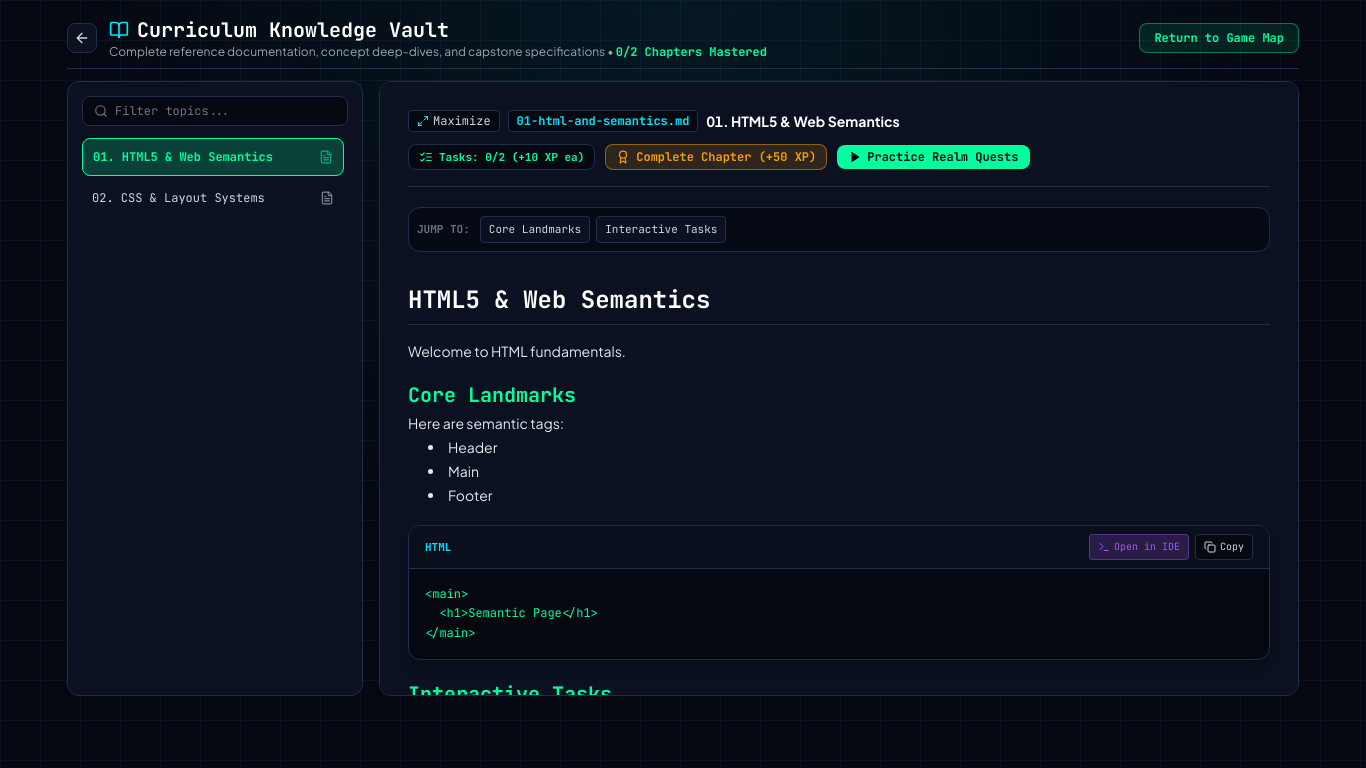
Test: CurriculumViewer Component › handles completing a chapter
Click the button "Complete Chapter (+50 XP)" at (716, 157), box left=605, top=144, right=827, bottom=170
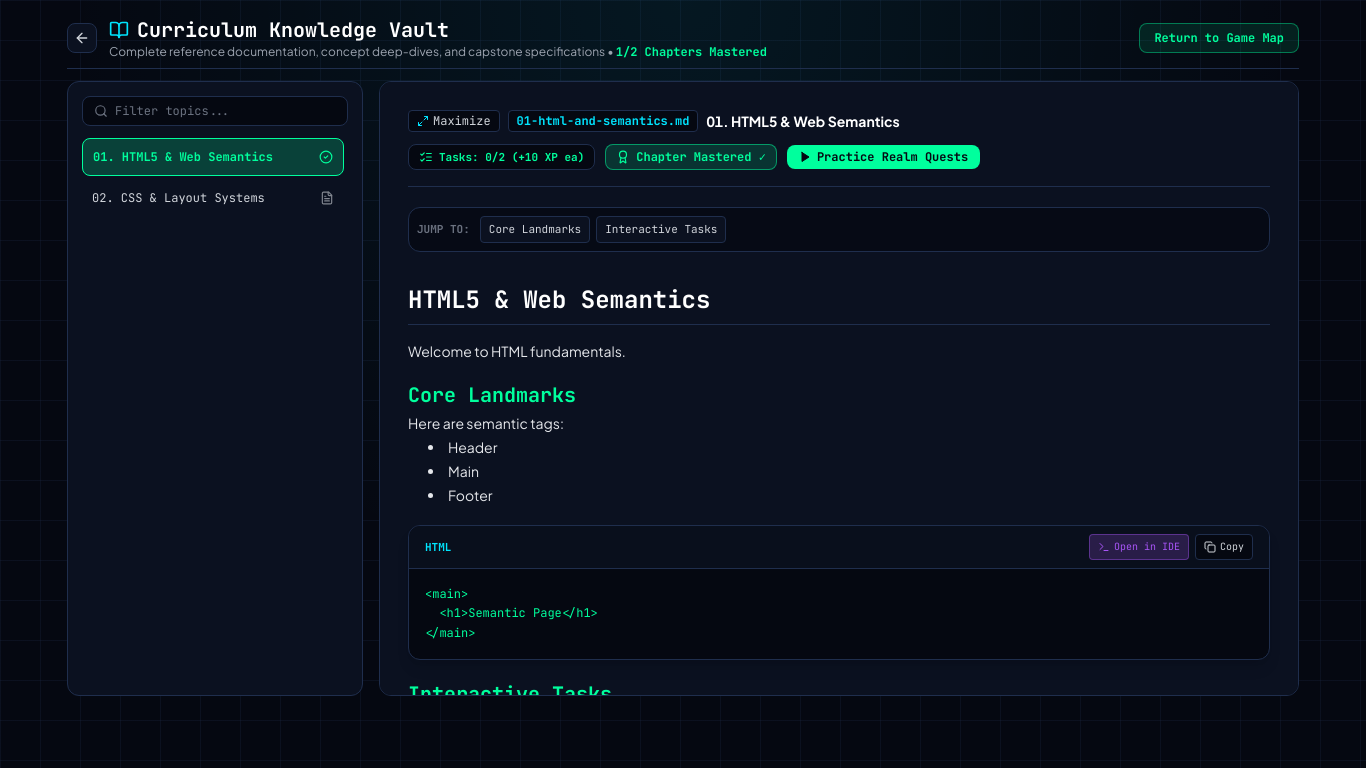
Result: the text "Chapter Mastered ✓" is shown at left=636, top=149, right=766, bottom=165
